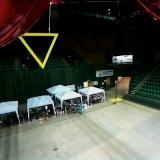Yellow_Triangle_Gshape: (19, 32, 59, 69)
